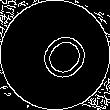O_SW: (21, 22, 89, 88)
